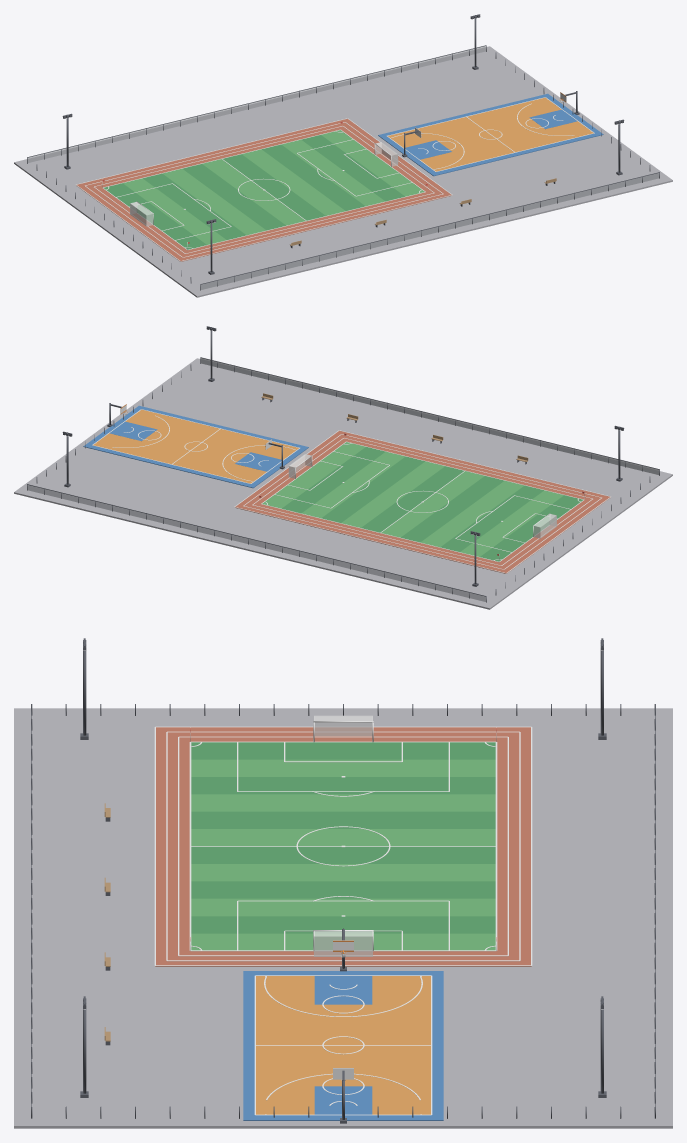
File: lapangan-olahraga-blender-v1.glb
3 renders of one model, top to bottom at view 1: azimuth 30°, elevation 25°; view 2: azimuth 150°, elevation 25°; view 3: azimuth 270°, elevation 25°, orthographic. The views are drawn at different scales.
Parts seen in each view (by area): view 1: Lap_Base, Lap_Grass, Lap_Court, Lap_Track, Lap_Fence, Lap_Lines, Lap_Lights, Lap_Nets; view 2: Lap_Base, Lap_Grass, Lap_Court, Lap_Track, Lap_Fence, Lap_Lines, Lap_Lights, Lap_Nets; view 3: Lap_Base, Lap_Grass, Lap_Court, Lap_Track, Lap_Lines, Lap_Nets, Lap_Fence, Lap_Lights, Lap_Hoops.
Boxes of the visible parts, x1,y1,x2,y2 form: Lap_Base: (14,46,672,297); Lap_Grass: (104,130,424,249); Lap_Court: (378,93,603,176); Lap_Track: (76,119,451,261); Lap_Fence: (27,45,659,290); Lap_Lines: (76,97,594,261); Lap_Lights: (62,14,624,274); Lap_Nets: (130,100,562,226); Lap_Base: (14,358,672,609); Lap_Grass: (262,442,582,561); Lap_Court: (83,405,308,488); Lap_Track: (235,431,610,573); Lap_Fence: (27,357,659,602); Lap_Lines: (92,409,610,573); Lap_Lights: (62,326,624,586); Lap_Nets: (124,412,556,538); Lap_Base: (14,708,672,1128); Lap_Grass: (191,742,495,950); Lap_Court: (243,971,443,1120); Lap_Track: (155,727,531,966); Lap_Lines: (154,726,532,1115); Lap_Nets: (314,715,372,1080); Lap_Fence: (31,704,655,1118); Lap_Lights: (80,638,606,1097); Lap_Hoops: (333,928,353,1123).
Bounding box in the file's own units: 84 × 9.26 × 56.
